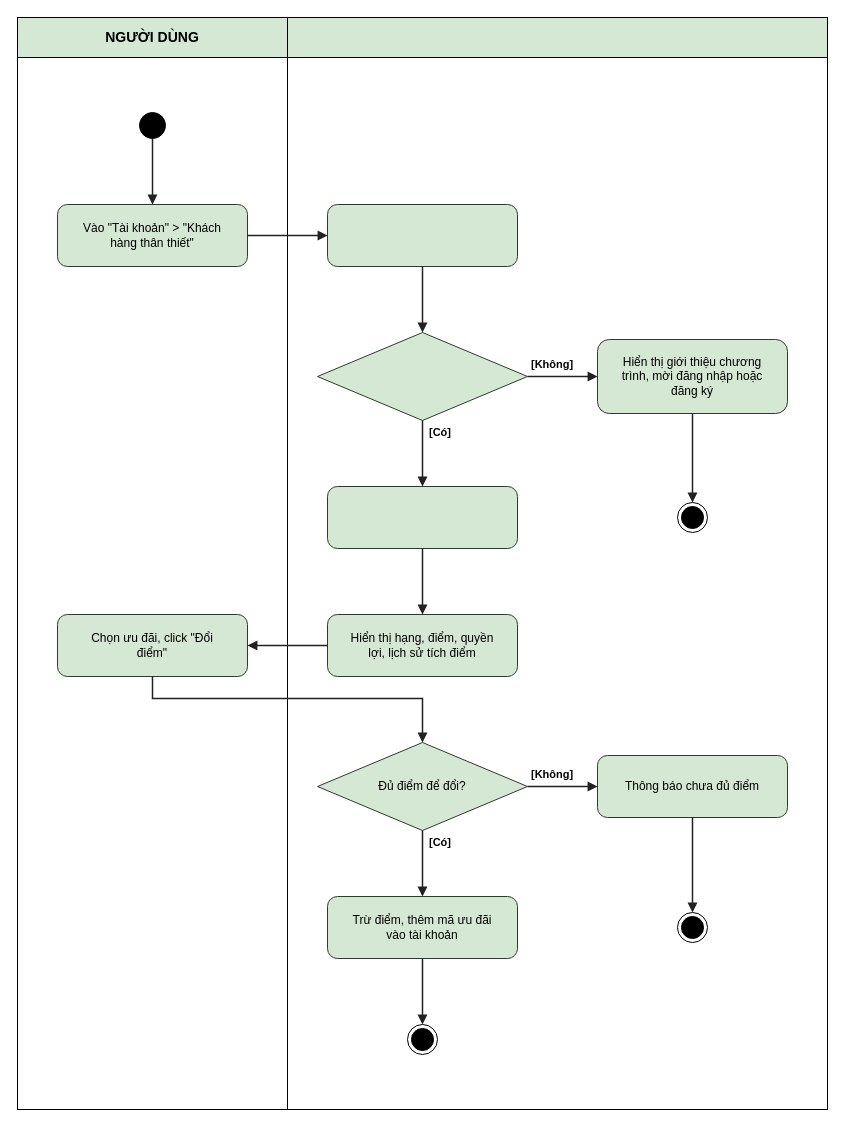
Image size: 845x1127. Some labels were removed from this diagram. Here are the shapes that lost their labels. From the top down, the centre of each, then its label:
At point (557, 37): "HỆ THỐNG".
At point (422, 235): "Kiểm tra đã đăng nhập".
At point (422, 376): "Đã đăng nhập?".
At point (422, 517): "Truy vấn hạng và điểm tích lũy".
